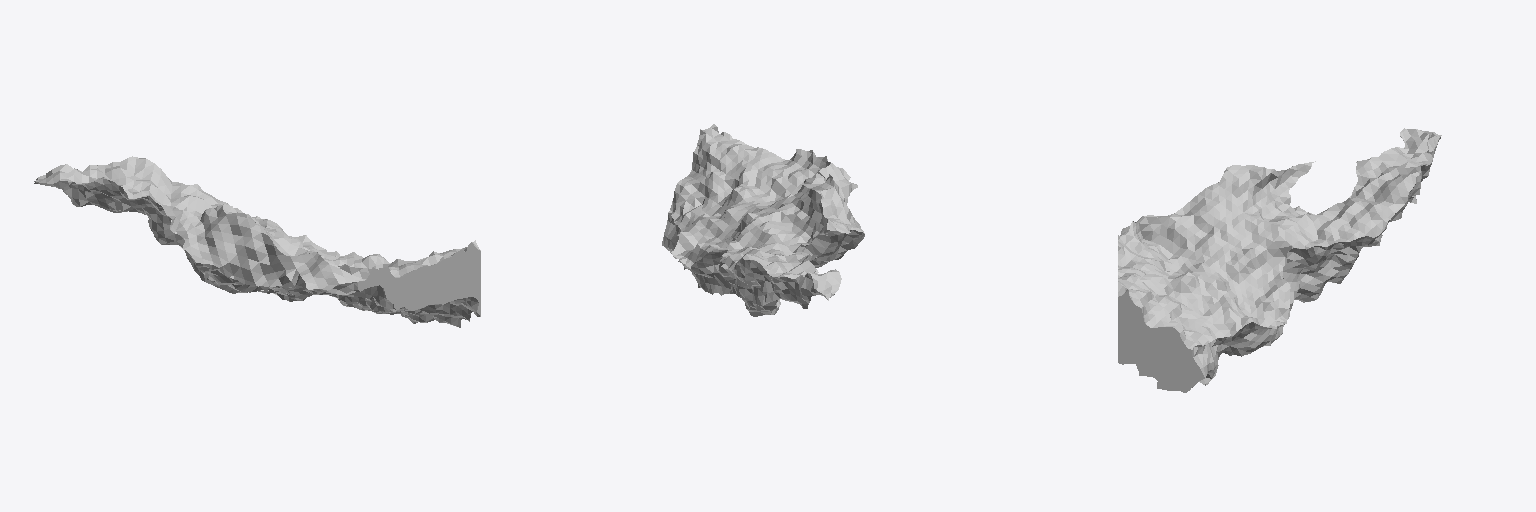
Rendered from cube_20_seed_4_shard.002.obj.
The picture shows the model from 3 angles: view 1: azimuth 30°, elevation 25°; view 2: azimuth 150°, elevation 25°; view 3: azimuth 270°, elevation 25°; orthographic projection.
Parts seen in each view (by area): view 1: Cube_shard.002_Cube_shard.102; view 2: Cube_shard.002_Cube_shard.102; view 3: Cube_shard.002_Cube_shard.102.
Part boxes in pixels (left/top/right/bottom): Cube_shard.002_Cube_shard.102: left=34, top=156, right=480, bottom=327; Cube_shard.002_Cube_shard.102: left=662, top=124, right=864, bottom=316; Cube_shard.002_Cube_shard.102: left=1118, top=128, right=1441, bottom=392.
Bounding box in the file's own units: 1.81 × 0.8508 × 1.76.